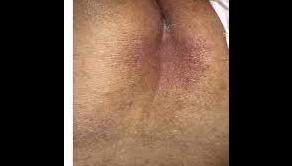Stage3: (111, 19, 210, 99)
